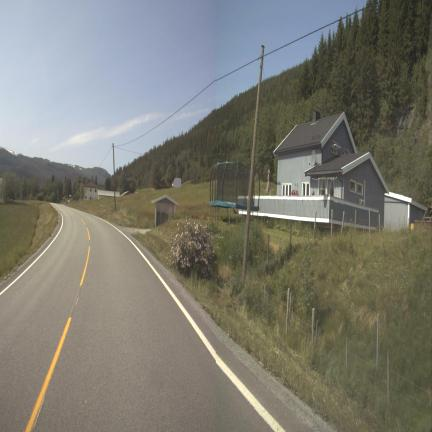Road: (0, 205, 328, 430)
